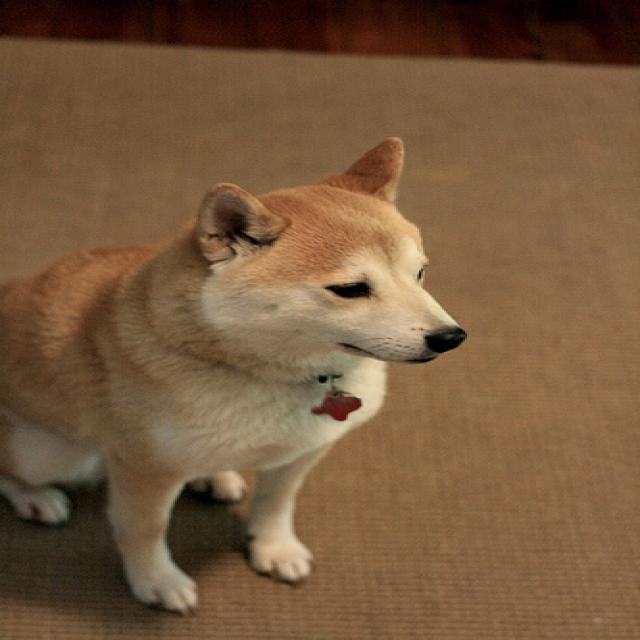dog-shiba_inu: (2, 132, 475, 617)
